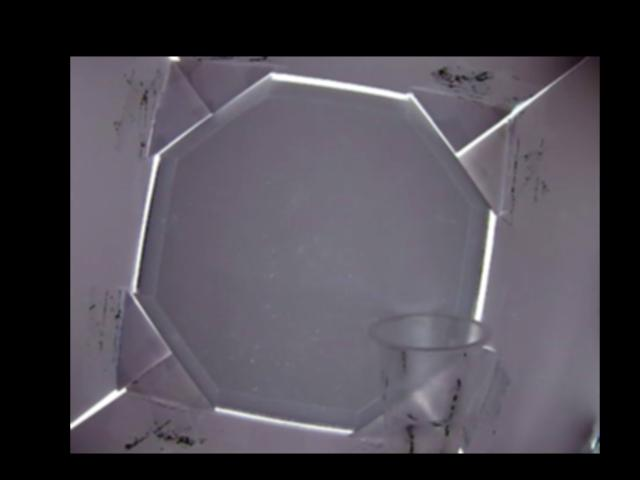Cup: (366, 311, 488, 453)
